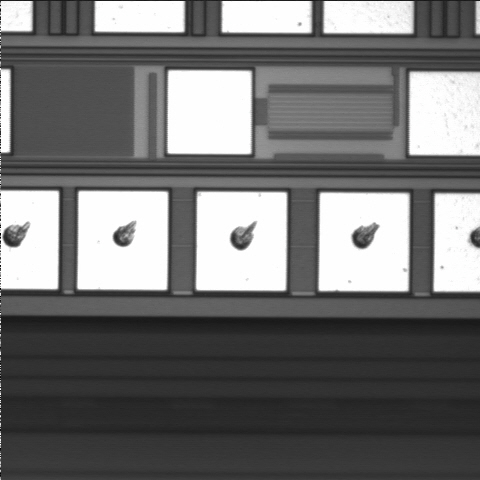pad: (77, 191, 168, 290), (196, 192, 287, 291), (319, 193, 409, 291), (168, 70, 251, 154)
